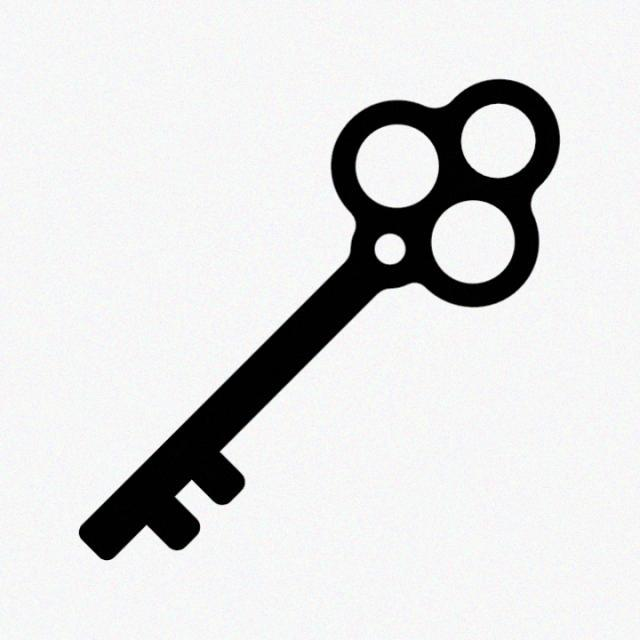key: (73, 75, 565, 576)
